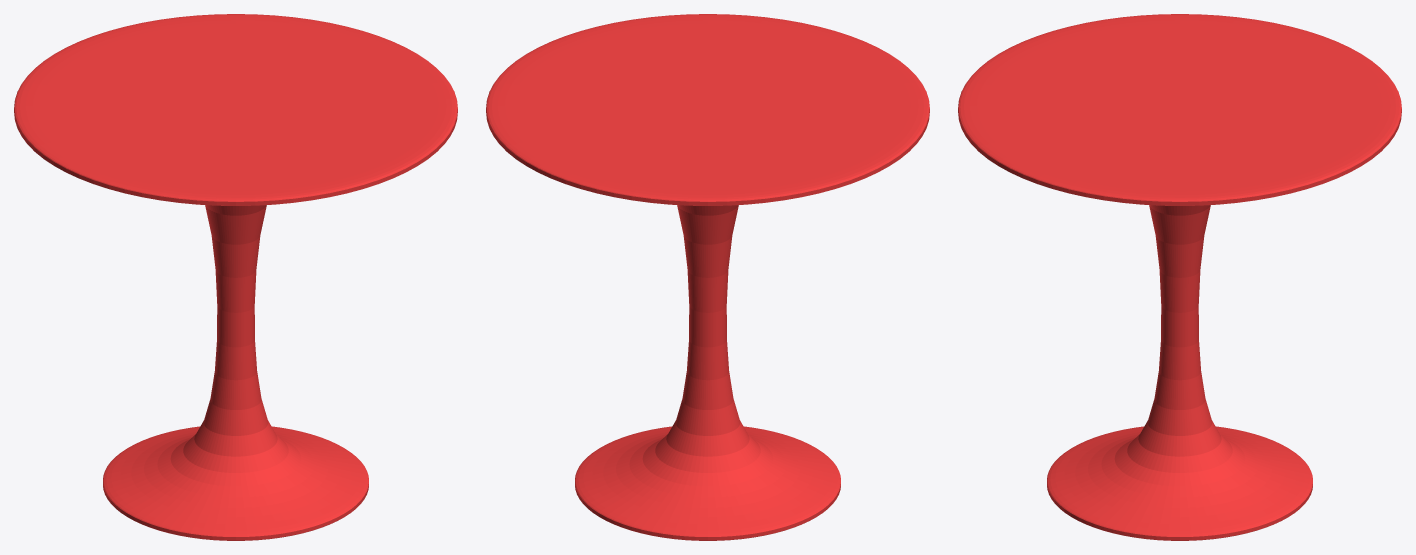
File: legTable.fbx
The picture shows the model from 3 angles, left to right: view 1: azimuth 30°, elevation 25°; view 2: azimuth 150°, elevation 25°; view 3: azimuth 270°, elevation 25°; orthographic projection.
Visible parts, largest first — view 1: legTable; view 2: legTable; view 3: legTable.
Part boxes in pixels (bbox=[...]): legTable: bbox=[14, 14, 457, 540]; legTable: bbox=[486, 14, 929, 540]; legTable: bbox=[958, 14, 1401, 540].
Size of the model in its own units: 78.49 by 74 by 78.49.
